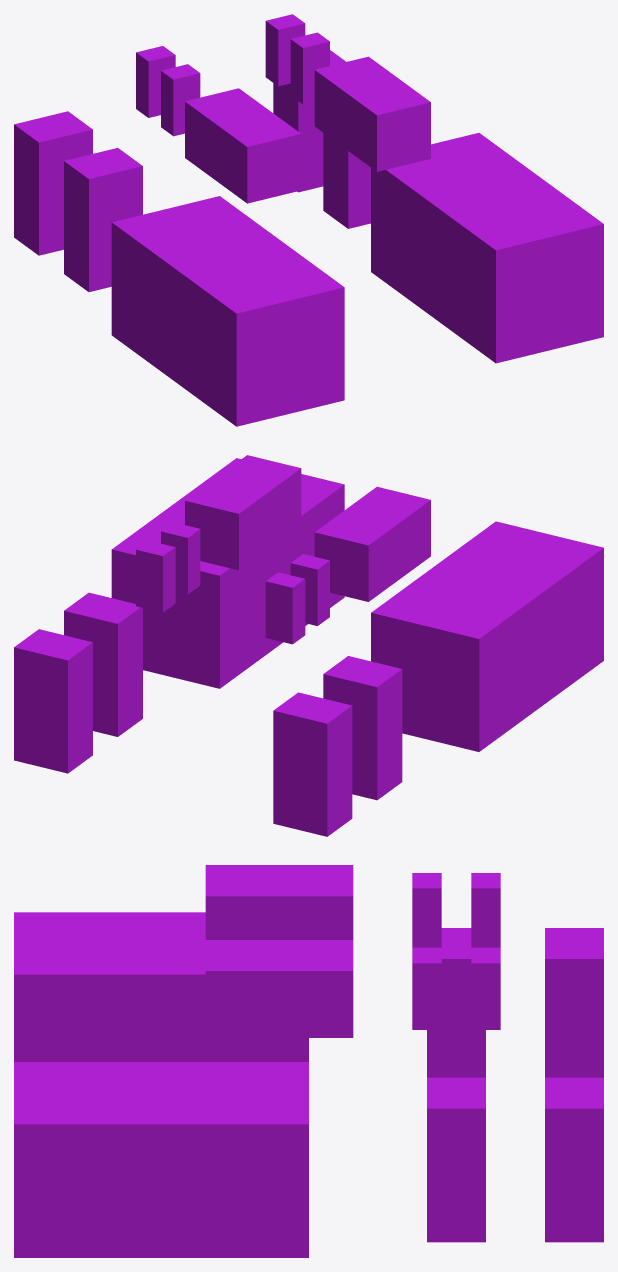
Rendered from powerup_quad_shot.fbx.
The picture shows the model from 3 angles, top to bottom: view 1: azimuth 30°, elevation 25°; view 2: azimuth 150°, elevation 25°; view 3: azimuth 270°, elevation 25°; orthographic projection. The views are drawn at different scales.
Visible parts, largest first — view 1: powerup_quad_shot; view 2: powerup_quad_shot; view 3: powerup_quad_shot.
Part boxes in pixels (x1,y1,x2,y2): powerup_quad_shot: (14, 14, 603, 426); powerup_quad_shot: (14, 455, 603, 836); powerup_quad_shot: (14, 865, 603, 1257).
Bounding box in the file's own units: 170 × 87.5 × 200.
